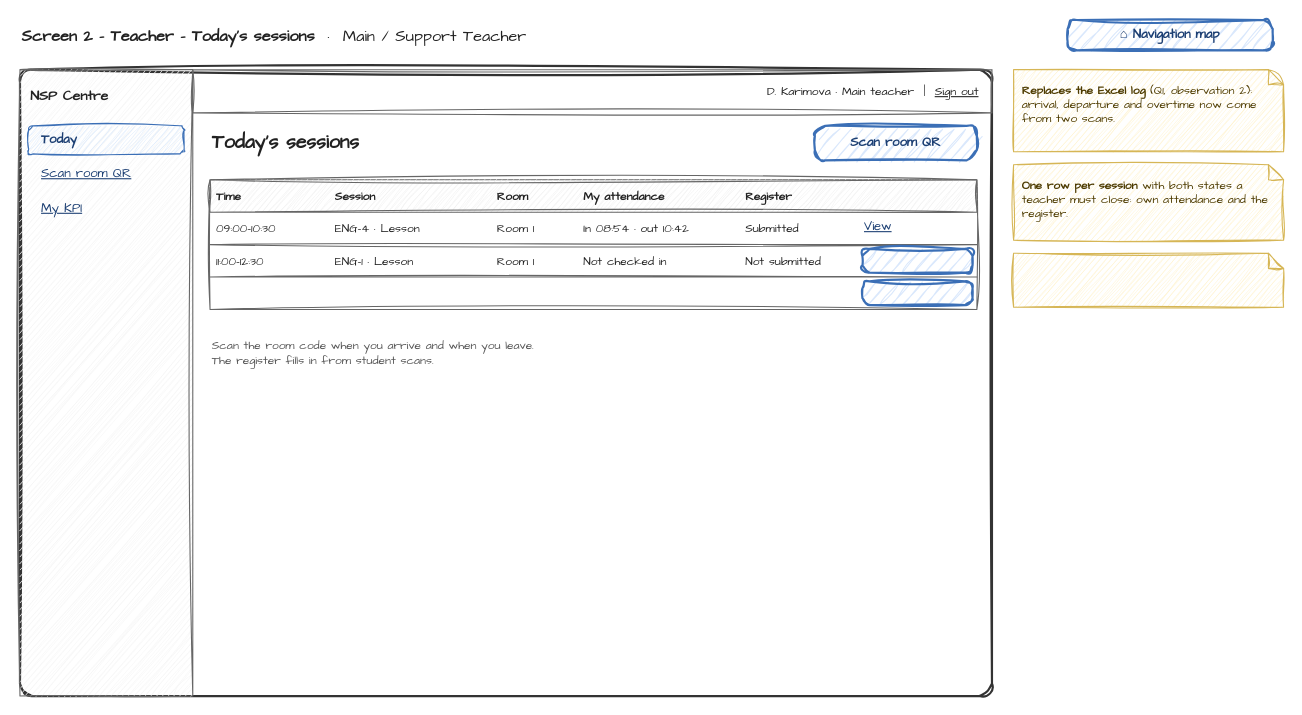
The diagram is 1302 pixels wide and 715 high, and some of its shapes have lost their labels. The shapes that lost their labels are listed below. From the top down, each one's centre as x and y in pixels, then its label:
the point at 917,260: Check in
the point at 1148,279: Flow: Check in → Screen 3. Open register → Screen 6.
the point at 917,293: Open register
